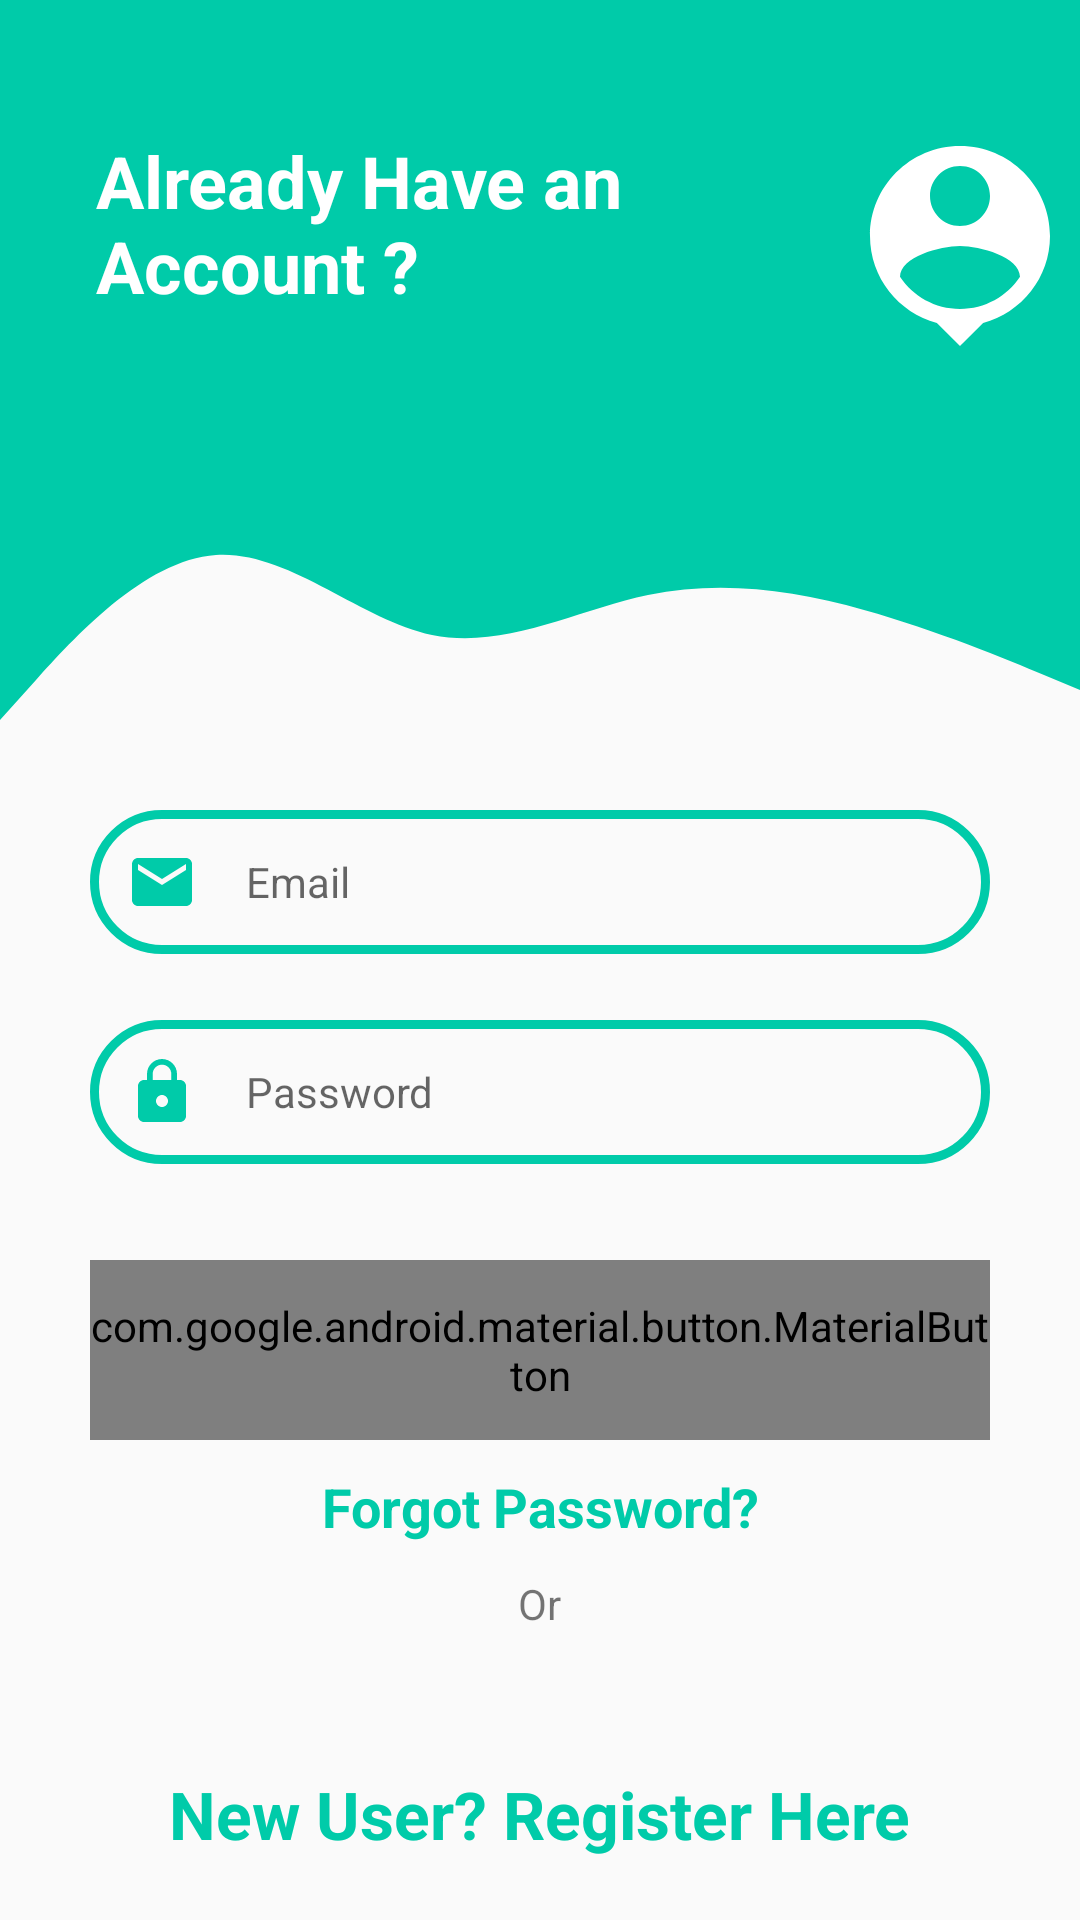

Named icons in this screenshot (1080px x 1920px) and their bounding boxes, rect(x1, y1, x2, y2):
person pin: rect(869, 146, 1050, 346)
